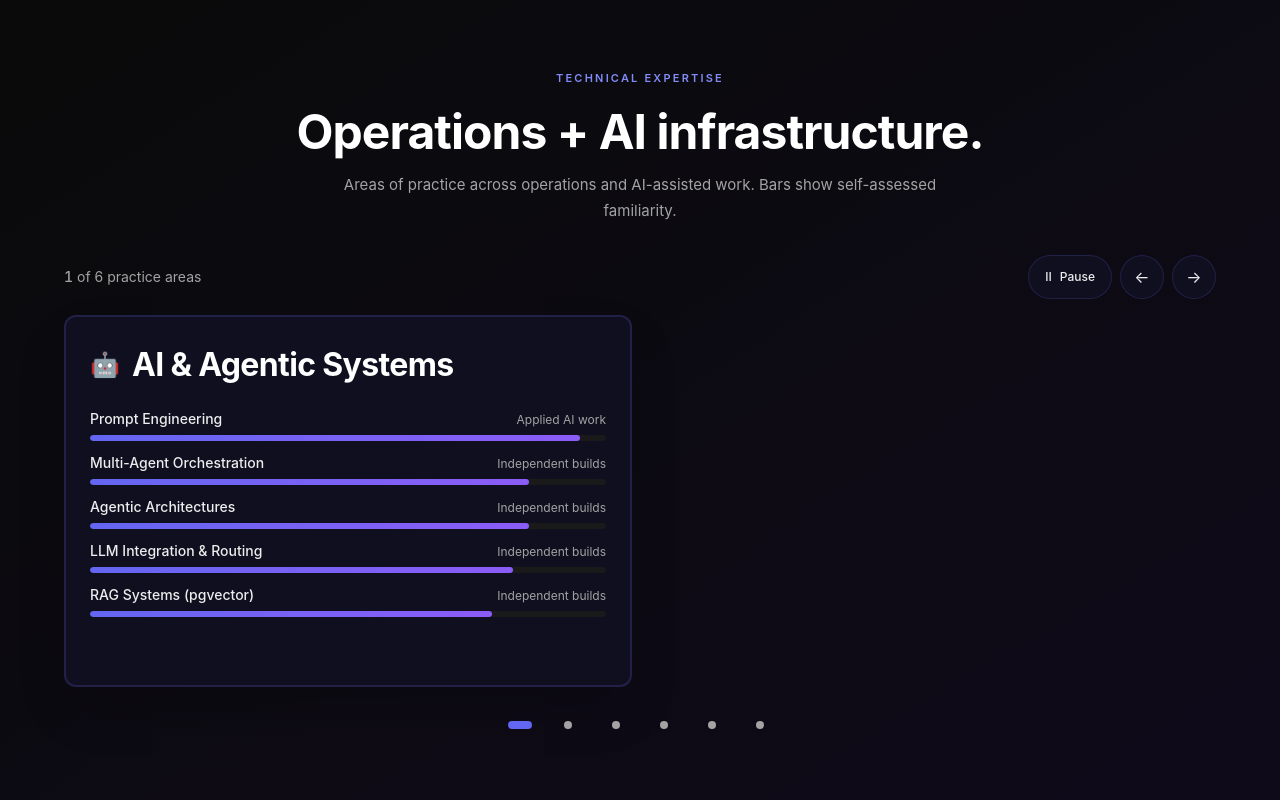
Test: SkillsVisualization carousel › lets visitors pause rotation and leaves manual navigation paused
Click the button with aria-label "Pause practice area rotation" at (1070, 277), box [1028,255,1112,299]
Wait 10000 ms
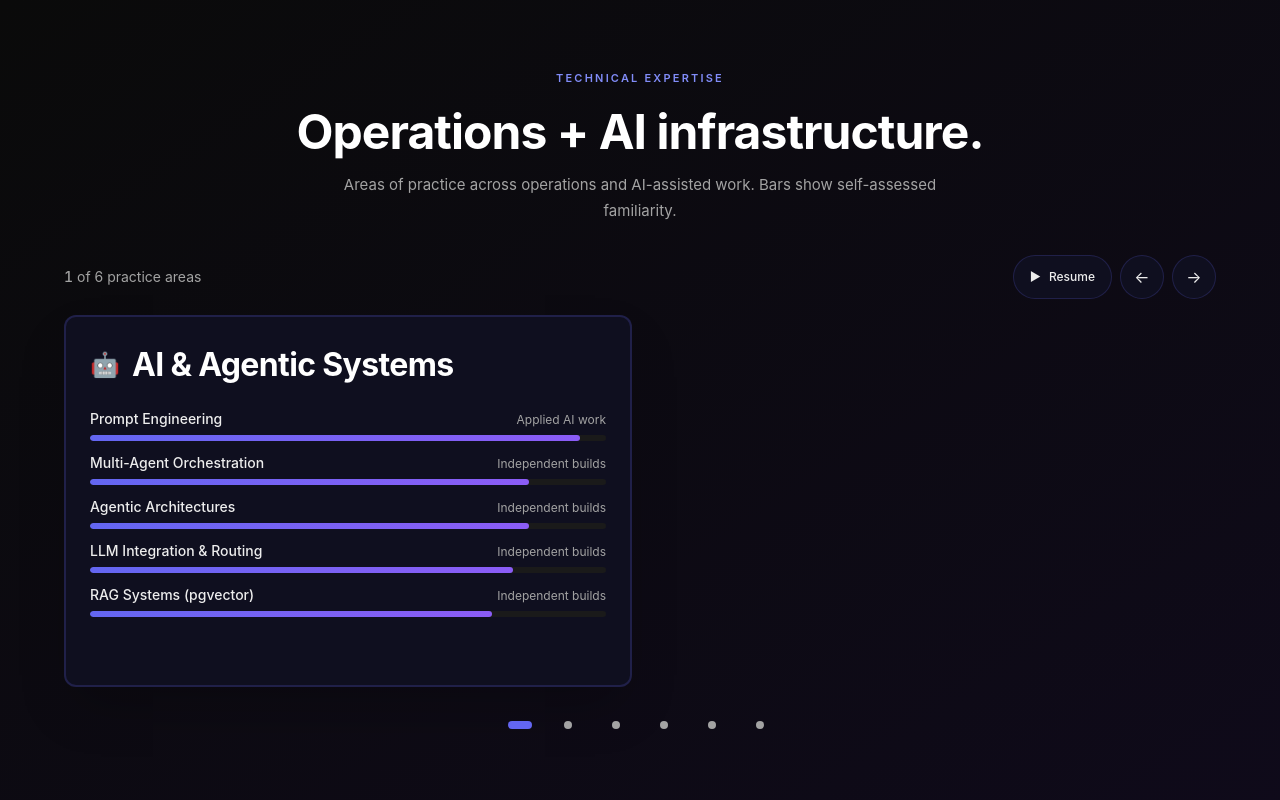
expect the heading "AI & Agentic Systems" is shown: met, box [132,346,454,384]
Click the button with aria-label "Resume practice area rotation" at (1062, 277), box [1013,255,1112,299]
Wait 10000 ms
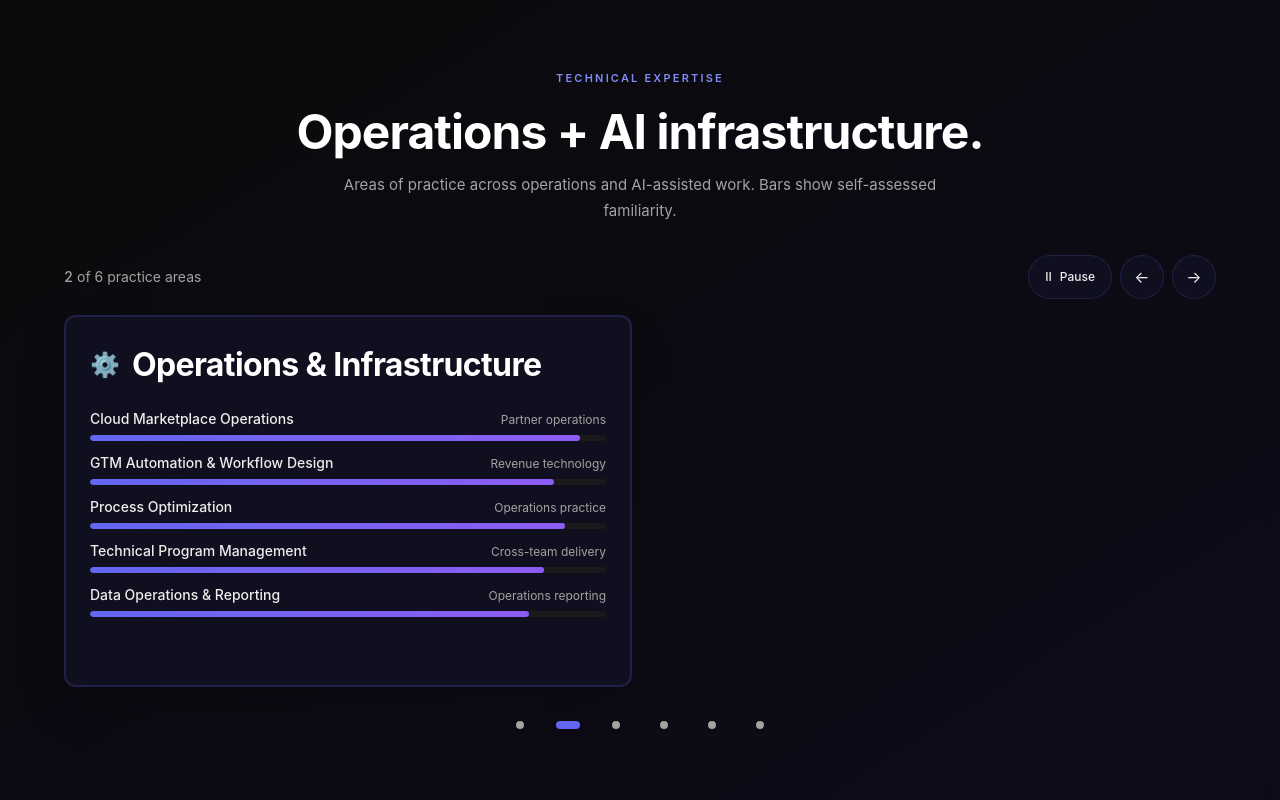
expect the heading "Operations & Infrastructure" is shown: met, box [132,346,541,384]
Click the button named "Show Leadership & Community" at (760, 725), box [738,703,782,747]
Wait 10000 ms
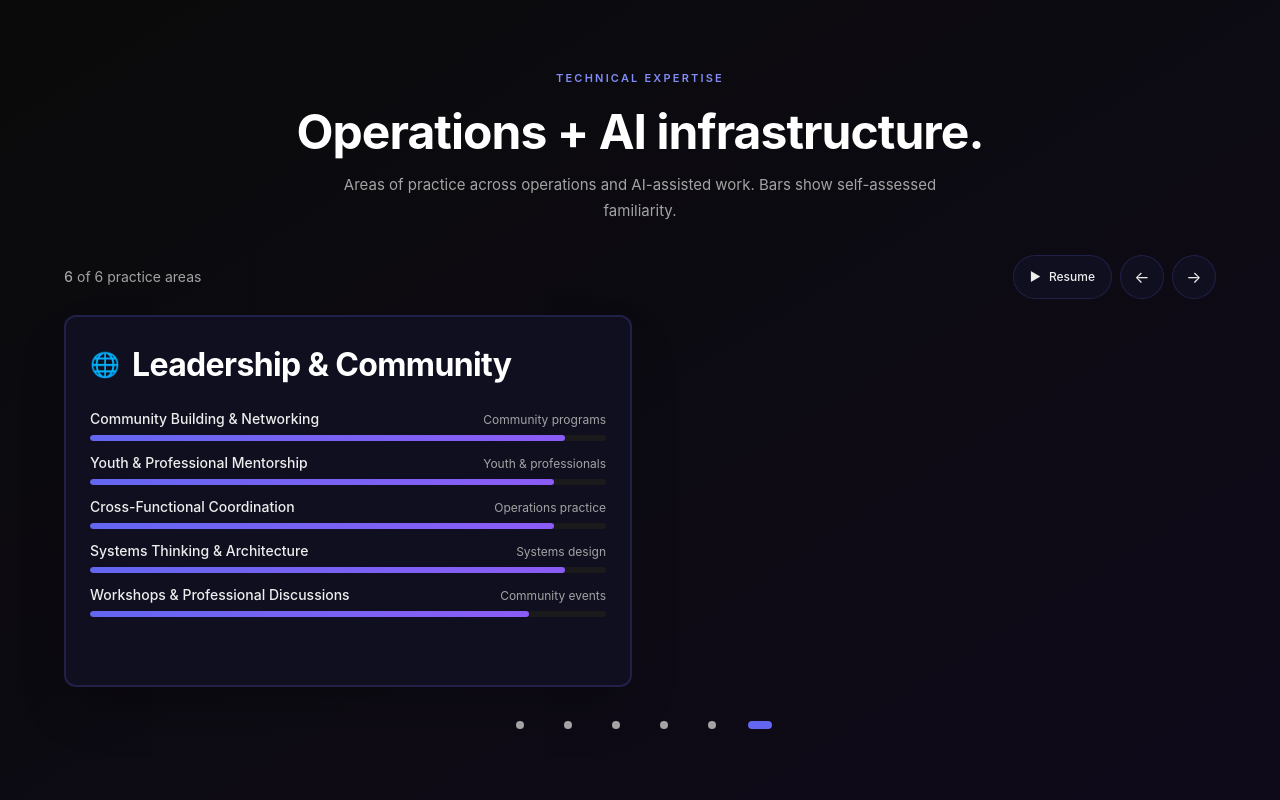
expect the heading "Leadership & Community" is shown: met, box [132,346,511,384]
